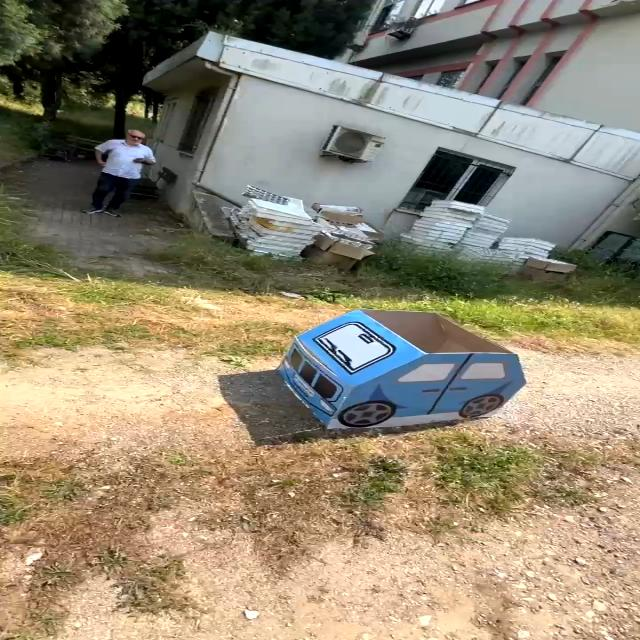blue_car: (249, 290, 551, 438)
